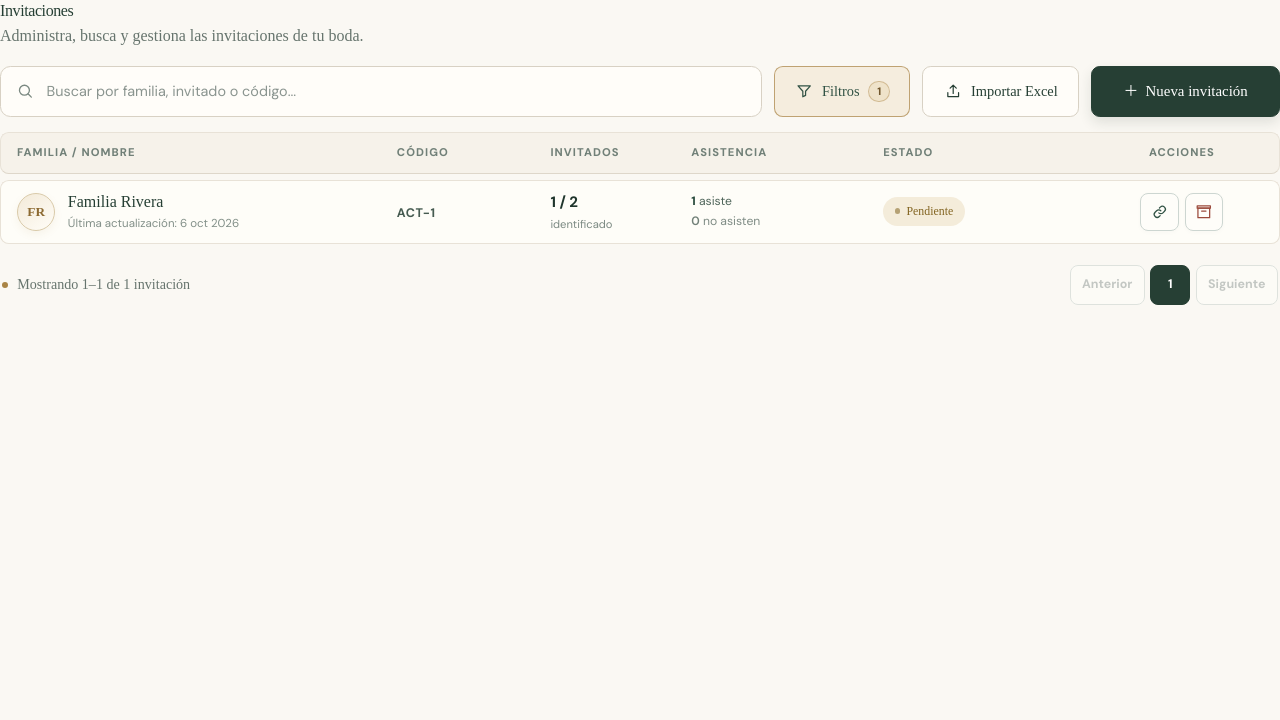
Scenario: listado de invitaciones › archiva con confirmación y quita el registro de la lista activa
The image size is (1280, 720).
Click the button named "Archivar invitación: Familia Rivera". click: click(1204, 212)
box: [1185,193,1224,231]
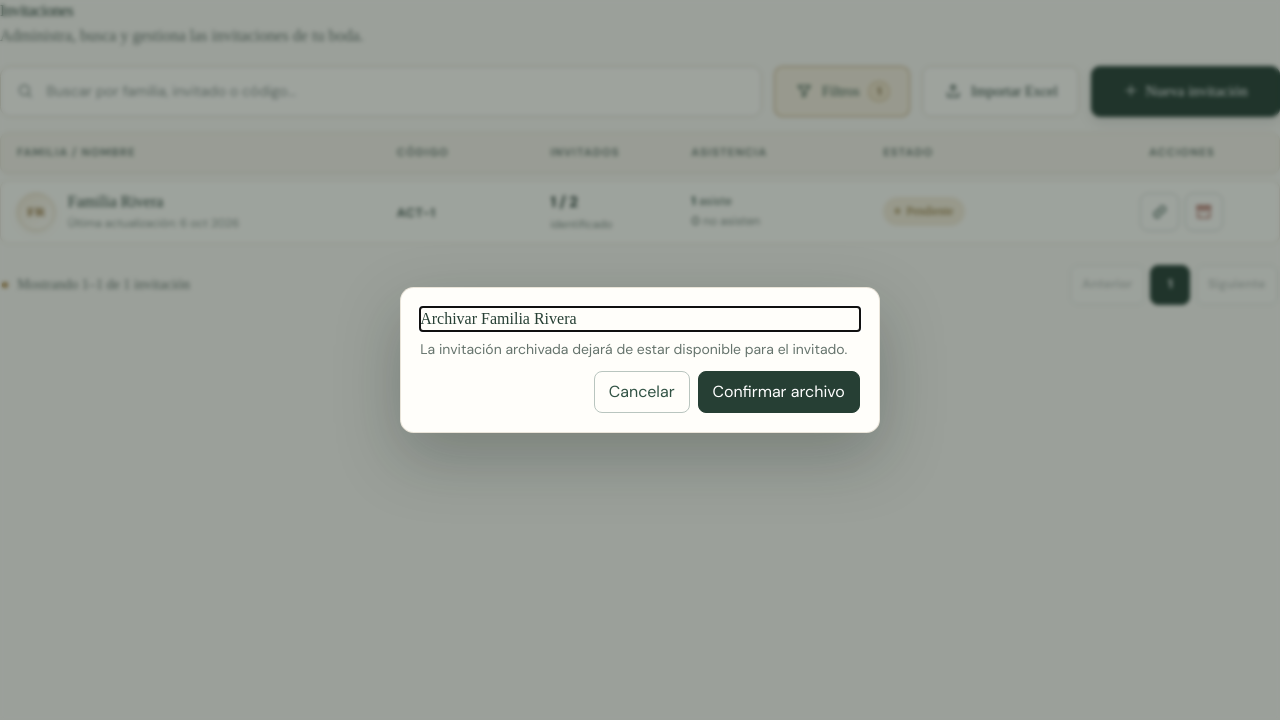
Check: the dialog named "Archivar invitación" is shown, box [400,287,880,433]
Click the button "Confirmar archivo". click: click(779, 392)
box: [698,371,860,413]
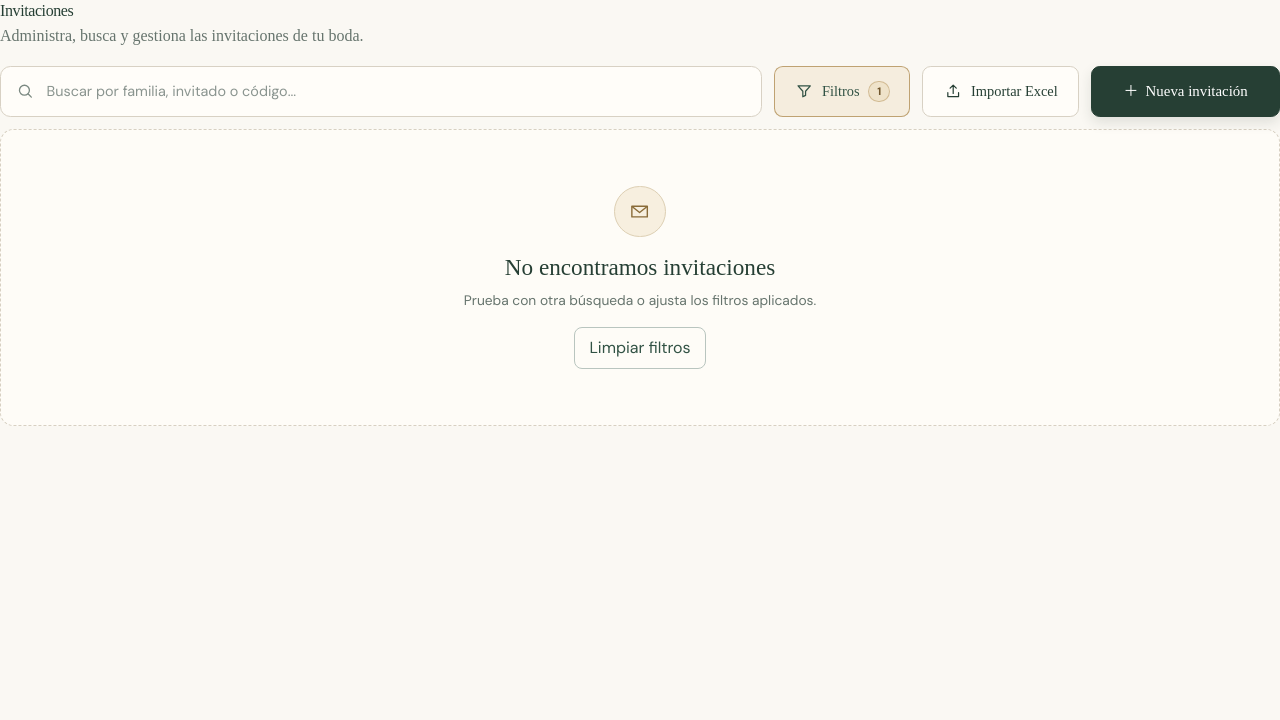
Check: the table is gone
